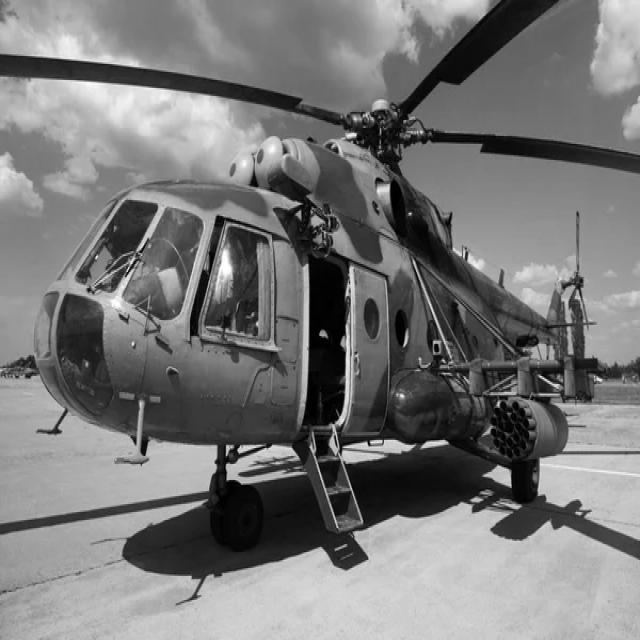Helicopter: (0, 0, 639, 551)
